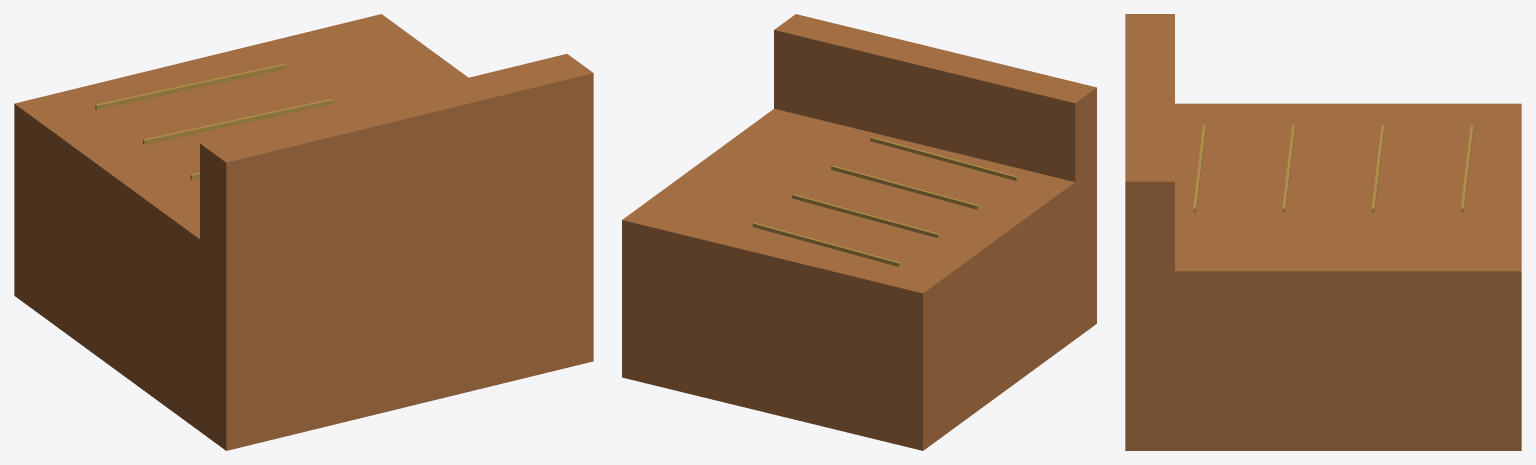
Rendered from terrain-lava-edge.lod0.glb.
The picture shows the model from 3 angles, left to right: view 1: azimuth 30°, elevation 25°; view 2: azimuth 150°, elevation 25°; view 3: azimuth 270°, elevation 25°; orthographic projection. The views are drawn at different scales.
Visible parts, largest first — view 1: terrain-lava-edge__body; view 2: terrain-lava-edge__body; view 3: terrain-lava-edge__body.
Part boxes in pixels (left/top/right/bottom): terrain-lava-edge__body: left=14, top=14, right=593, bottom=450; terrain-lava-edge__body: left=622, top=14, right=1096, bottom=450; terrain-lava-edge__body: left=1125, top=14, right=1521, bottom=450.
Bounding box in the file's own units: 2 × 1.5 × 2.
